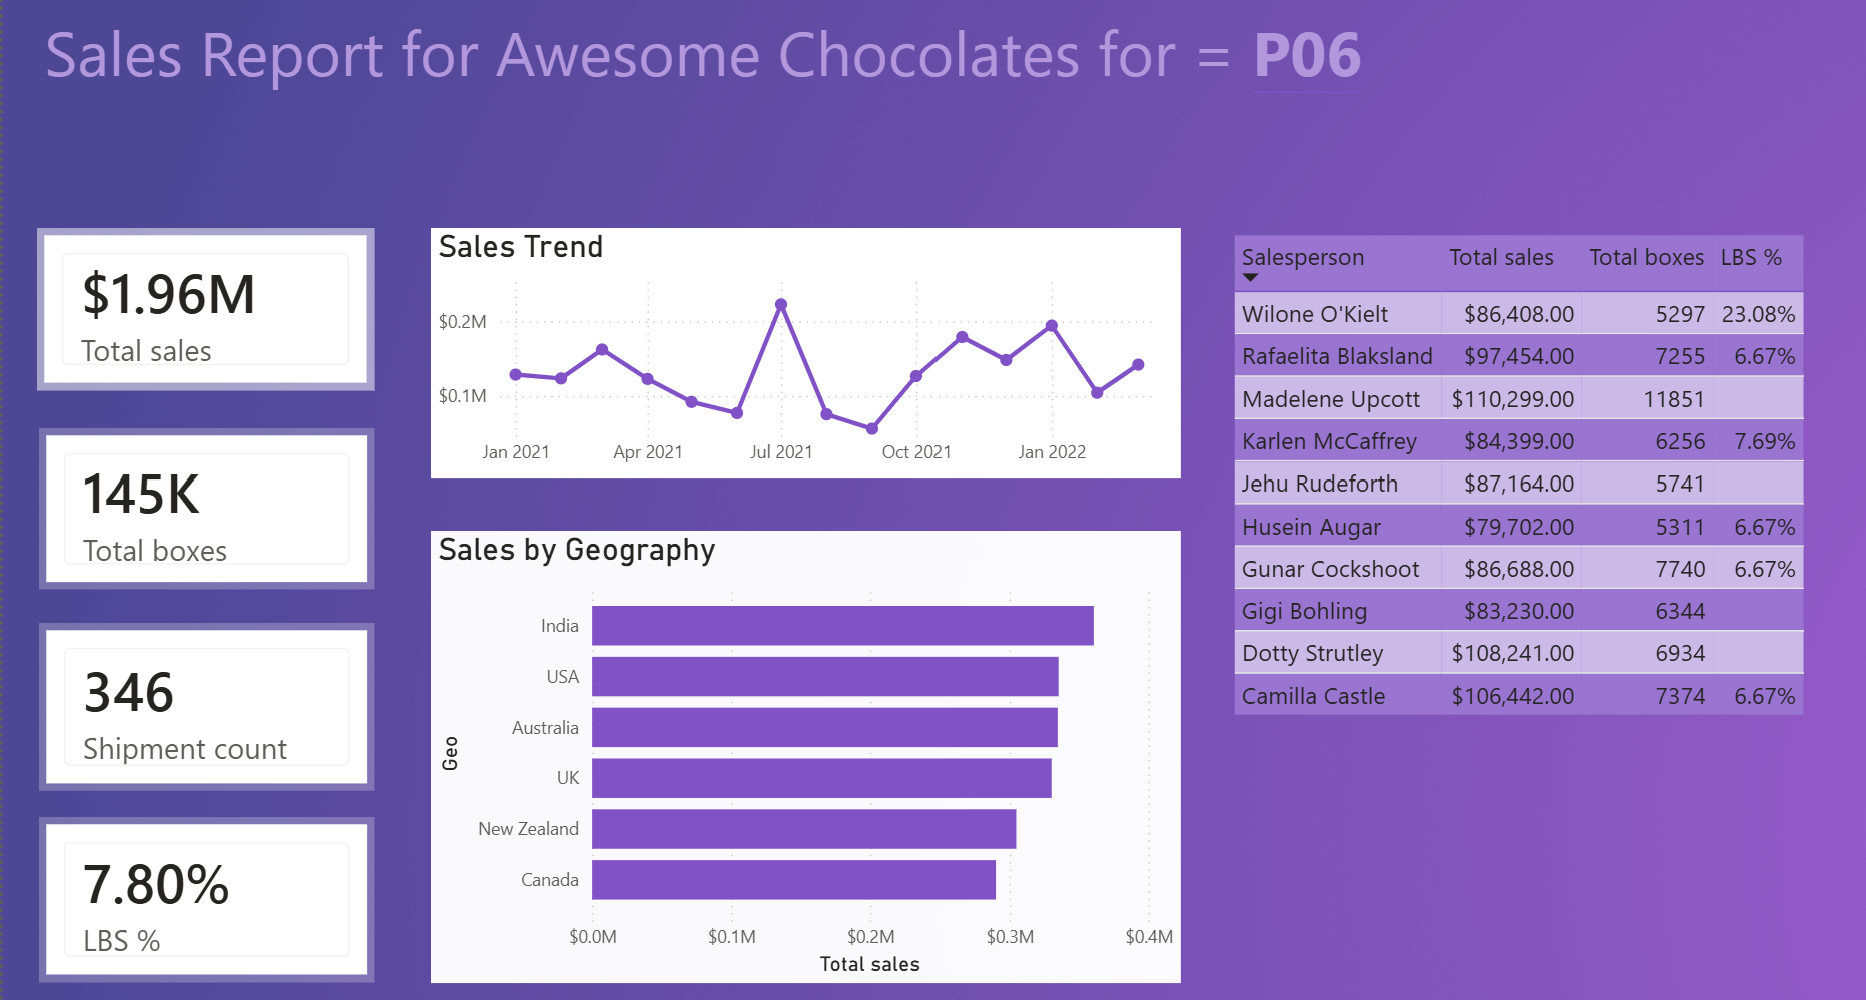

The page's visual inventory and layout, read from the dashboard file:
{"tool":"powerbi","page":{"name":"Page 1","canvas":[1280,720],"ordinal":0},"visuals":[{"type":"cardVisual","fields":{"Data":["sales.Total sales"]},"box":[23.3,188.3,231.7,111.7],"z":0},{"type":"cardVisual","fields":{"Data":["sales.Total boxes"]},"box":[25,325,230,110],"z":1000},{"type":"cardVisual","fields":{"Data":["sales.Shipment count"]},"box":[25,458.3,230,115],"z":2000},{"type":"cardVisual","fields":{"Data":["sales.LBS %"]},"box":[25,591.7,230,113.3],"z":3000},{"type":"lineChart","title":"Sales Trend","fields":{"Y":["sales.Total sales"],"Category":["sales.SaleDate.Variation.Date Hierarchy.Year","sales.SaleDate.Variation.Date Hierarchy.Quarter","sales.SaleDate.Variation.Date Hierarchy.Month"]},"box":[293.3,188.3,513.3,171.7],"z":4000},{"type":"barChart","title":"Sales by Geography","fields":{"Category":["geo.Geo"],"Y":["sales.Total sales"]},"box":[293.3,395,513.3,310],"z":5000},{"type":"tableEx","fields":{"Values":["people.Salesperson","sales.Total sales","sales.Total boxes","sales.LBS %"]},"box":[838.3,188.3,441.7,493.3],"z":6000},{"type":"textbox","box":[23.3,33.3,1256.7,118.3],"z":7000}]}

Visuals, with their boxes on the page's 1280x720 design canvas (x1, y1, x2, y2). These are canvas units, not pixel positions in the 1866x1000 screenshot, which may show the page scaled, cropped or inside an application window:
cardVisual - sales.Total sales: <box>23,188,255,300</box>
cardVisual - sales.Total boxes: <box>25,325,255,435</box>
cardVisual - sales.Shipment count: <box>25,458,255,573</box>
cardVisual - sales.LBS %: <box>25,592,255,705</box>
"Sales Trend" lineChart: <box>293,188,807,360</box>
"Sales by Geography" barChart: <box>293,395,807,705</box>
tableEx - people.Salesperson x sales.Total sales: <box>838,188,1280,682</box>
textbox: <box>23,33,1280,152</box>
